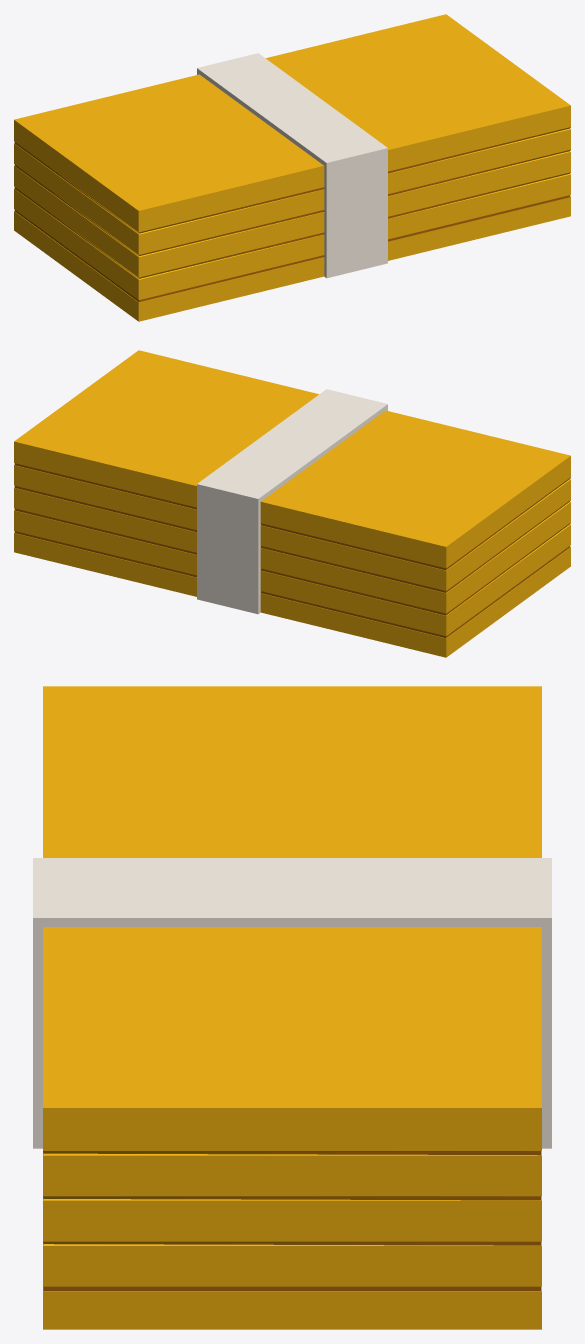
File: Papper_Money.fbx
The picture shows the model from 3 angles, top to bottom: view 1: azimuth 30°, elevation 25°; view 2: azimuth 150°, elevation 25°; view 3: azimuth 270°, elevation 25°; orthographic projection. The views are drawn at different scales.
Visible parts, largest first — view 1: Papper_Money; view 2: Papper_Money; view 3: Papper_Money.
Boxes of the visible parts, box(x1,y1,x2,y2) form: Papper_Money: box(14, 14, 570, 321); Papper_Money: box(14, 350, 570, 657); Papper_Money: box(33, 686, 551, 1329).
Bounding box in the file's own units: 20 × 5.1 × 10.4.
